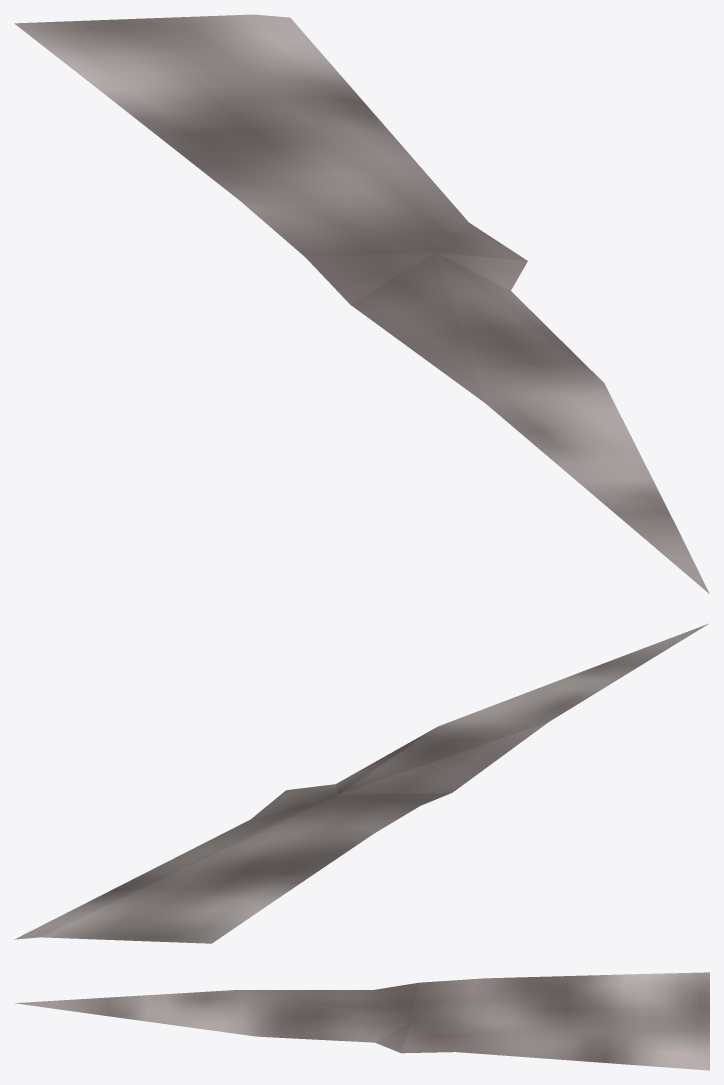
The picture shows the model from 3 angles, top to bottom: view 1: azimuth 30°, elevation 25°; view 2: azimuth 150°, elevation 25°; view 3: azimuth 270°, elevation 25°; orthographic projection. The views are drawn at different scales.
Bounding box in the file's own units: 0.0268 × 0.00571 × 0.1168.
1 material, 1 textured.
